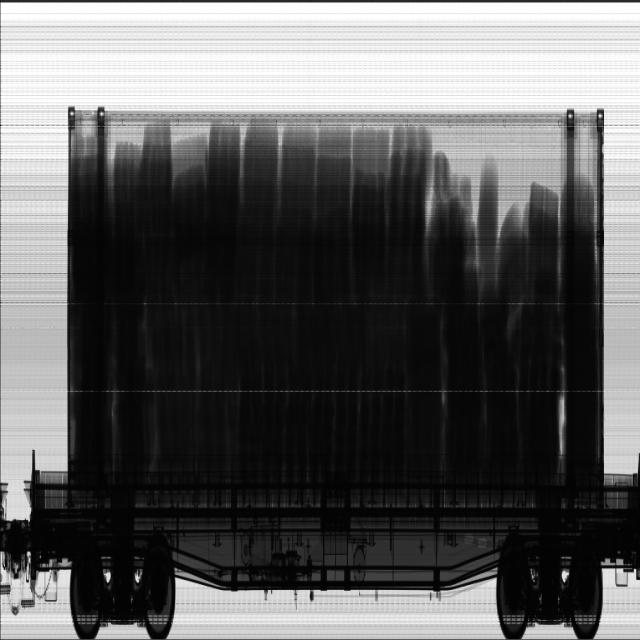clothes: (71, 122, 603, 468)
